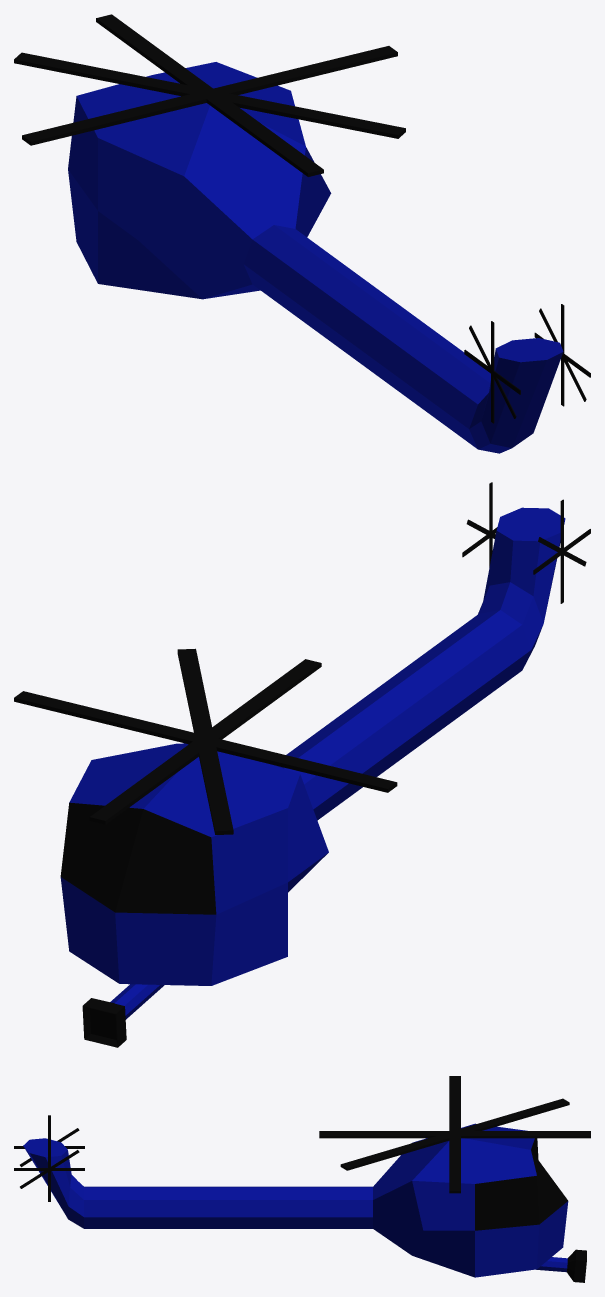
File: helicopter (2).glb
3 views of the same model, one above another, from view 1: azimuth 30°, elevation 25°; view 2: azimuth 150°, elevation 25°; view 3: azimuth 270°, elevation 25° (orthographic). The views are drawn at different scales.
Visible parts, largest first — view 1: Cube, Cube.003, Cube.004, Cube.001; view 2: Cube, Cube.003, Cube.001, Cube.004, Cube.002; view 3: Cube, Cube.001, Cube.004, Cube.003, Cube.002.
Boxes of the visible parts, x1,y1,x2,y2 form: Cube: (68,62,563,453); Cube.003: (22,46,397,145); Cube.004: (14,52,405,138); Cube.001: (96,14,323,176); Cube: (60,507,565,985); Cube.003: (14,691,397,792); Cube.001: (89,659,321,824); Cube.004: (177,648,233,834); Cube.002: (82,984,164,1047); Cube: (23,1123,568,1277); Cube.001: (319,1131,590,1138); Cube.004: (340,1098,569,1170); Cube.003: (449,1076,460,1193); Cube.002: (536,1249,586,1282).
Size of the model in its own units: 13.98 by 8.6 by 29.69.
